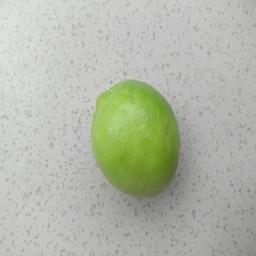Good_lime: (81, 70, 184, 200)
